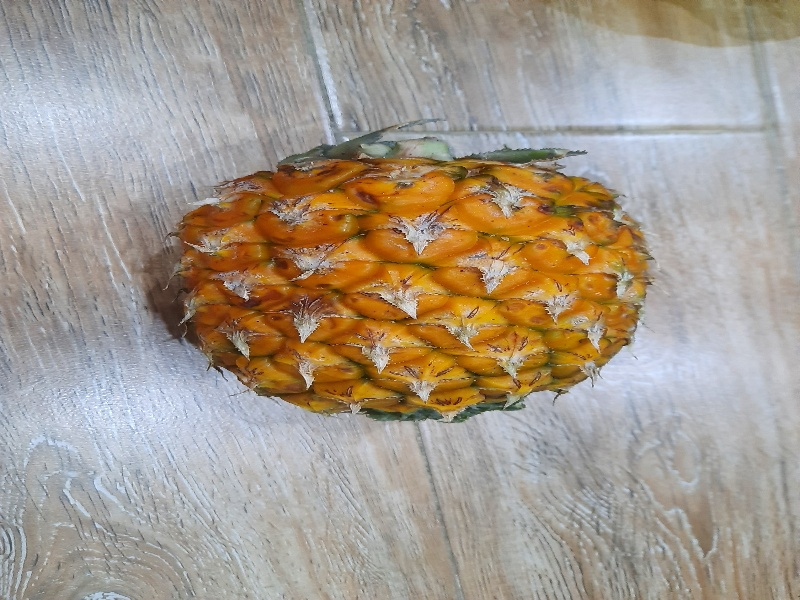fruit: (174, 145, 652, 431)
